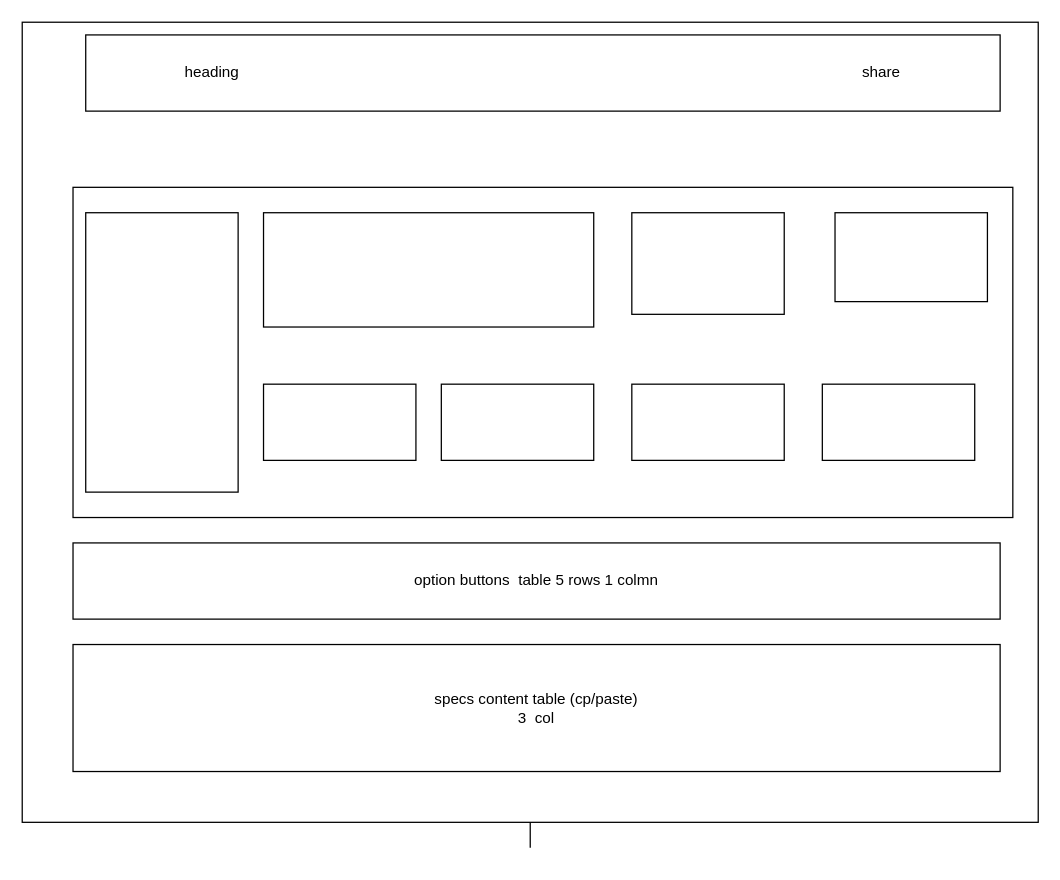
Some shapes in this 1060 by 880 pixel diagram are drawn without their labels. The box of each missing label's shape, as (x1, y1, x2, y2) in pixels:
list 1 row 2 col: (262, 211, 594, 327)
photo rowspan 2 colspan1: (84, 211, 238, 492)
